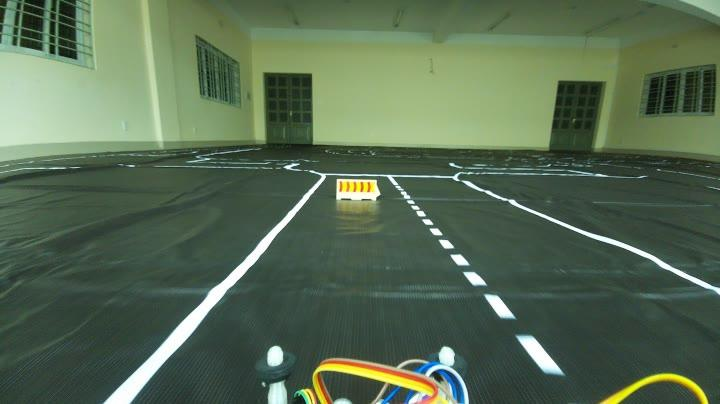roadblock: (331, 175, 388, 207)
